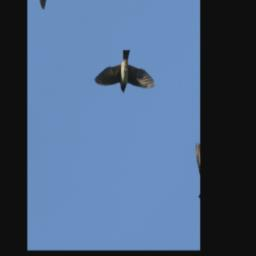Swallow: (94, 27, 157, 132)
